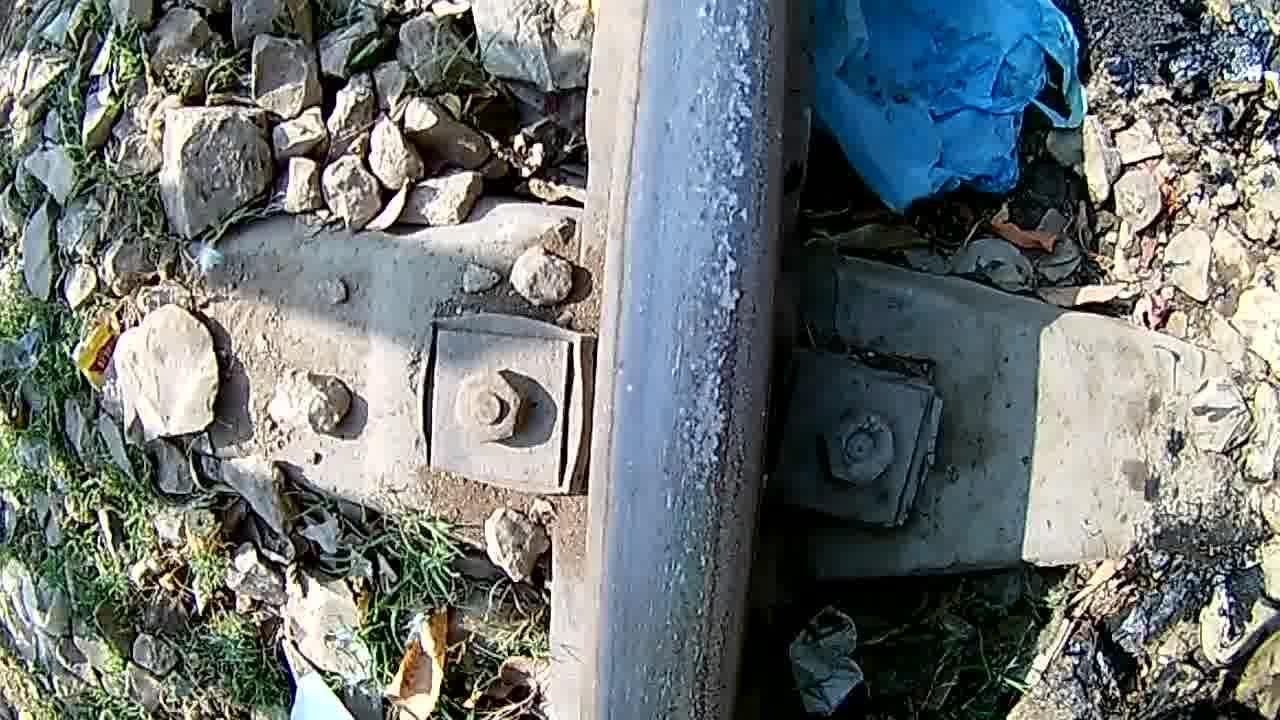crack: (612, 0, 792, 720)
